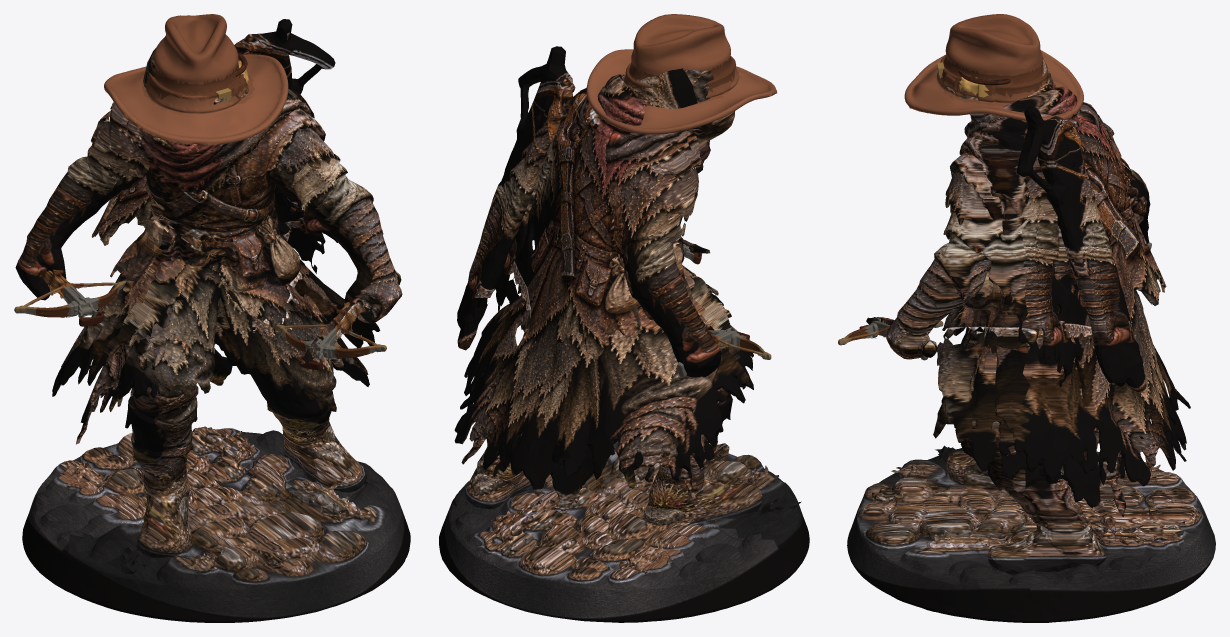
Rendered from gilo_dedos_sujos.glb.
3 views of the same model, side by side, from view 1: azimuth 30°, elevation 25°; view 2: azimuth 150°, elevation 25°; view 3: azimuth 270°, elevation 25° (orthographic). The views are drawn at different scales.
Visible parts, largest first — view 1: tmpf0q5hfcs.ply.001, tmp2vn5h43c.ply, Gilo Hand Crossbow • mão esquerda, Gilo Hand Crossbow • mão direita; view 2: tmpf0q5hfcs.ply.001, tmp2vn5h43c.ply, Gilo Hand Crossbow • mão esquerda; view 3: tmpf0q5hfcs.ply.001, tmp2vn5h43c.ply, Gilo Hand Crossbow • mão direita.
Part boxes in pixels (bbox=[...]): tmpf0q5hfcs.ply.001: bbox=[15, 19, 410, 622]; tmp2vn5h43c.ply: bbox=[104, 14, 288, 145]; Gilo Hand Crossbow • mão esquerda: bbox=[14, 269, 125, 326]; Gilo Hand Crossbow • mão direita: bbox=[275, 302, 386, 370]; tmpf0q5hfcs.ply.001: bbox=[439, 46, 809, 622]; tmp2vn5h43c.ply: bbox=[586, 14, 776, 134]; Gilo Hand Crossbow • mão esquerda: bbox=[677, 327, 771, 377]; tmpf0q5hfcs.ply.001: bbox=[847, 57, 1215, 622]; tmp2vn5h43c.ply: bbox=[904, 14, 1083, 120]; Gilo Hand Crossbow • mão direita: bbox=[838, 318, 943, 360].
Size of the model in its own units: 1.34 by 2.01 by 1.36.
Materials: 21 (2 with a texture image).
